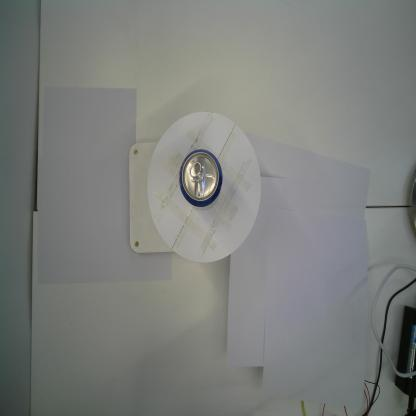Drink: (179, 149, 223, 208)
